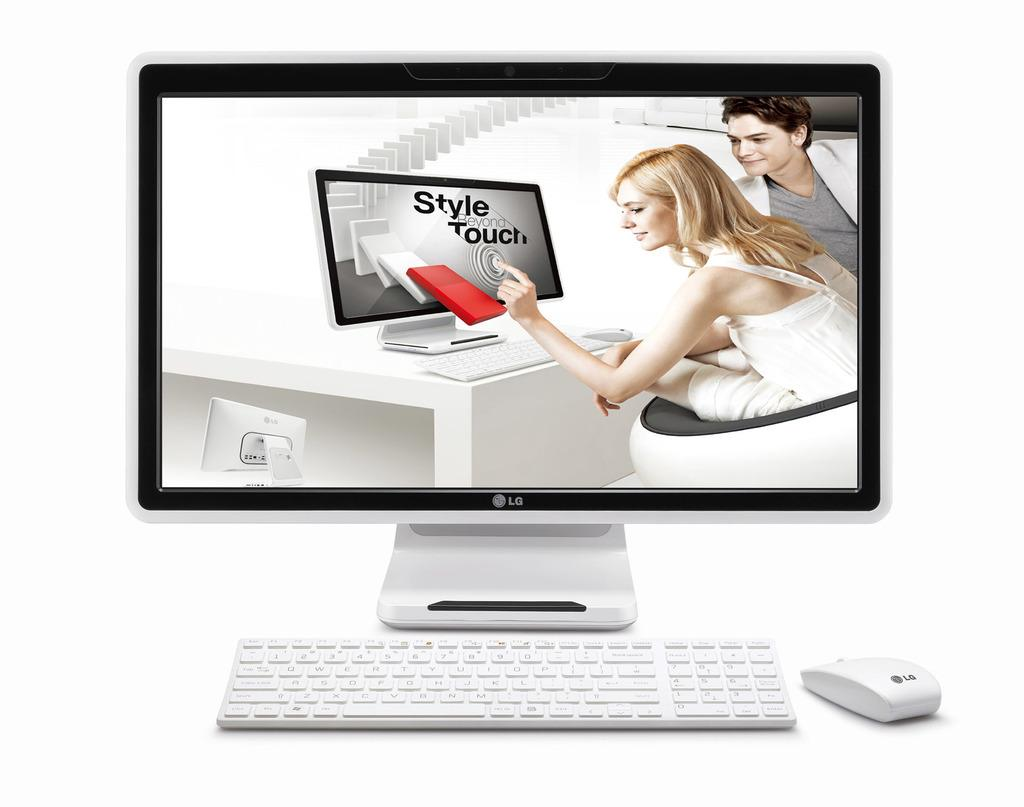Computer-keyboard: (216, 635, 794, 725)
Computer-monitor: (103, 58, 931, 640), (308, 164, 563, 333), (195, 399, 313, 486)
